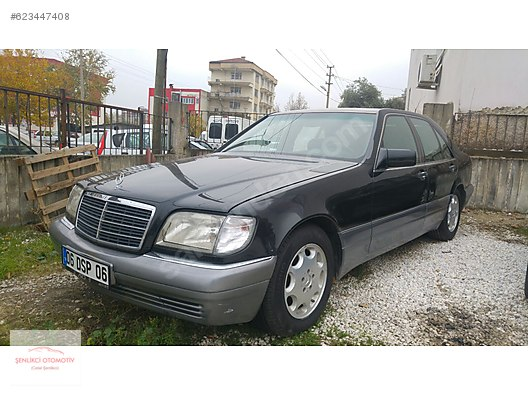m: (45, 106, 478, 338)
